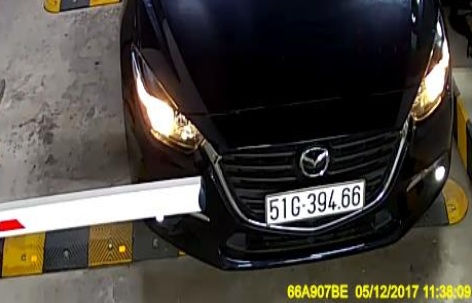plate: (258, 177, 374, 229)
